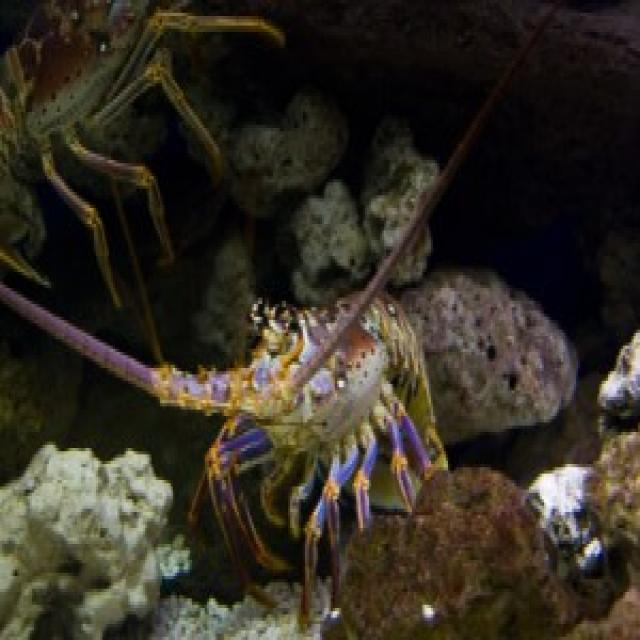lobsters: (2, 107, 518, 558)
